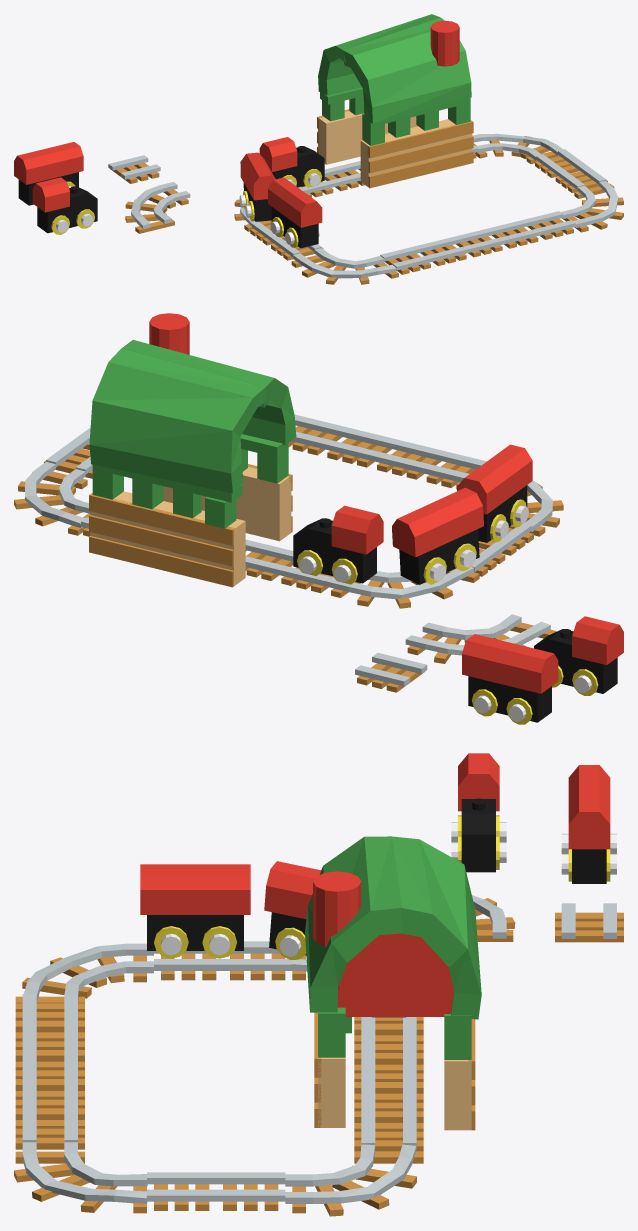
File: toyTrain.glb
The picture shows the model from 3 angles, top to bottom: view 1: azimuth 30°, elevation 25°; view 2: azimuth 150°, elevation 25°; view 3: azimuth 270°, elevation 25°; orthographic projection. The views are drawn at different scales.
Parts seen in each view (by area): view 1: Node; view 2: Node; view 3: Node.
Part boxes in pixels (bbox=[...]): Node: bbox=[14, 14, 623, 284]; Node: bbox=[14, 313, 623, 724]; Node: bbox=[14, 753, 623, 1216].
Size of the model in its own units: 1.32 by 0.4 by 0.8826.
